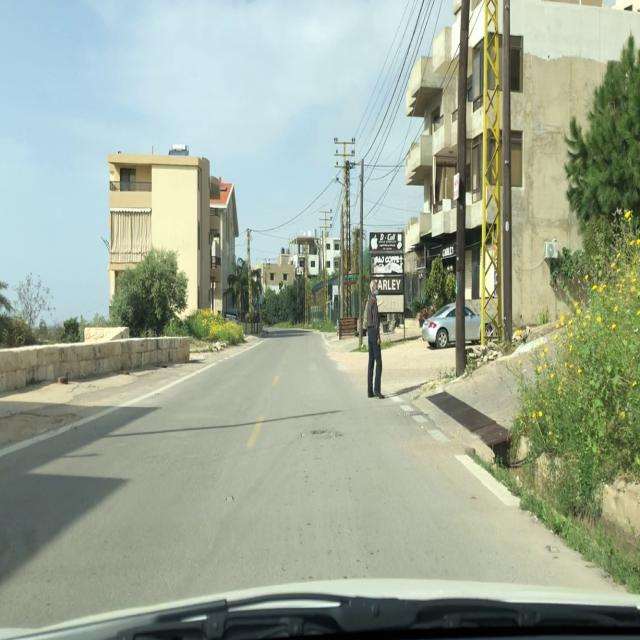Pothole: (299, 427, 345, 441)
